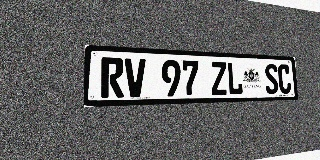7: (181, 60, 200, 96)
9: (162, 59, 181, 97)
C: (277, 64, 291, 94)
L: (227, 62, 243, 95)
R: (101, 57, 124, 98)
S: (264, 64, 279, 94)
V: (125, 58, 146, 97)
Z: (210, 61, 228, 95)
